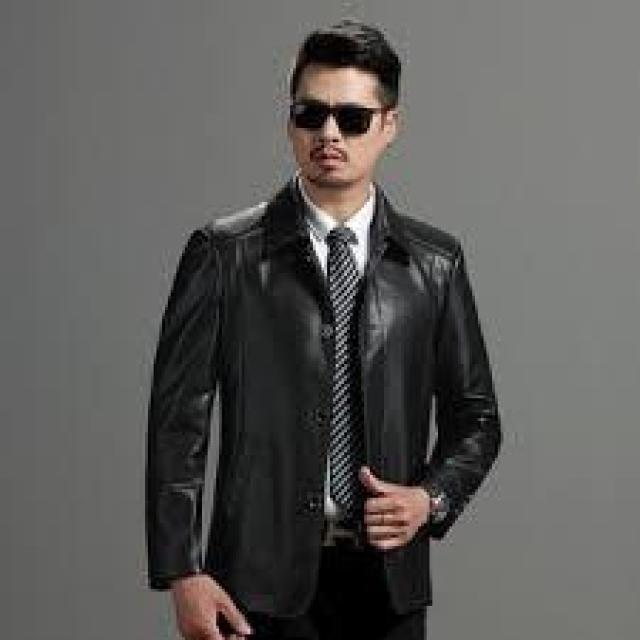jacket: (140, 195, 510, 624)
